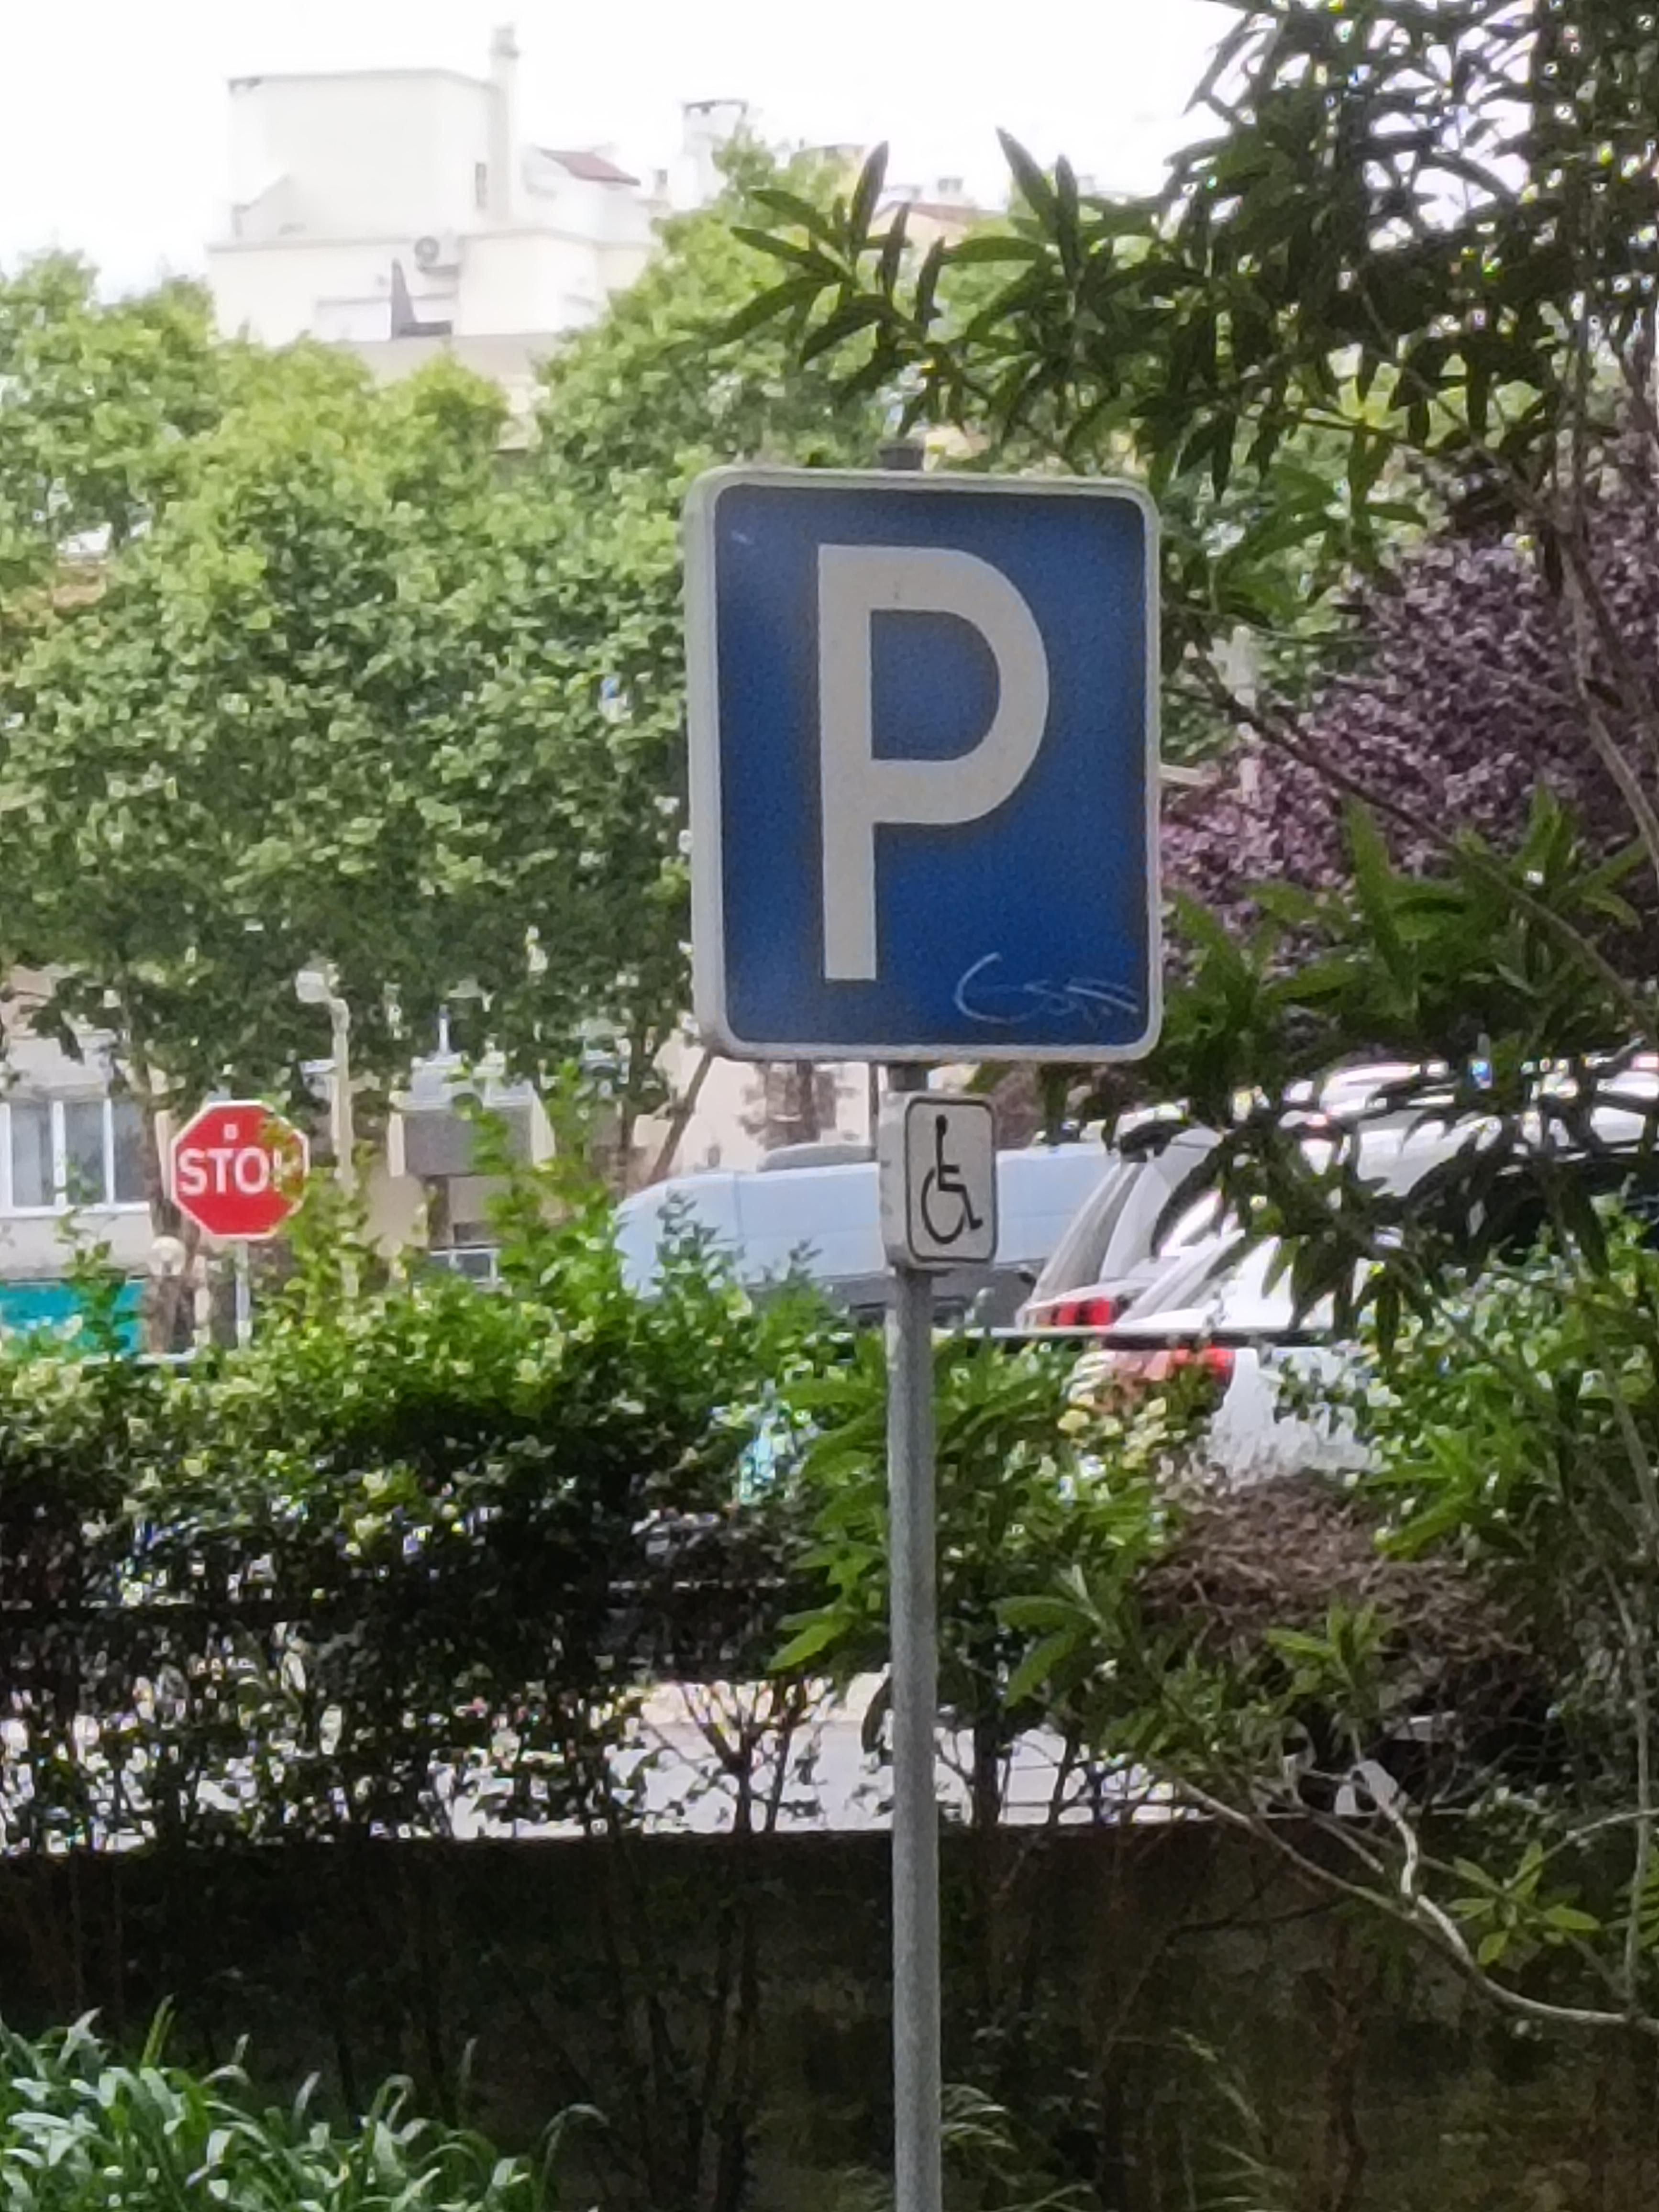Paragem obrigatoria em cruzamentos ou entroncamentos: (186, 1090, 329, 1254)
zona de estacionamento autorizado: (680, 444, 1192, 1085)
